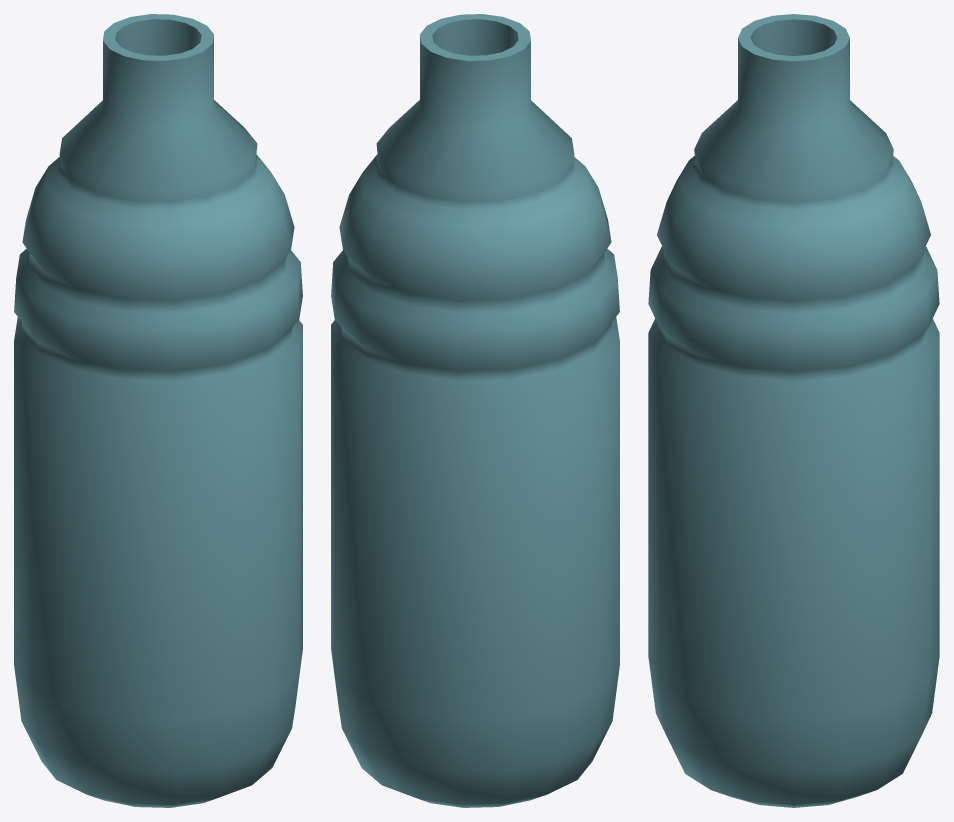
File: Botella.fbx
3 renders of one model, left to right at view 1: azimuth 30°, elevation 25°; view 2: azimuth 150°, elevation 25°; view 3: azimuth 270°, elevation 25°, orthographic.
Visible parts, largest first — view 1: Cylinder; view 2: Cylinder; view 3: Cylinder.
Boxes of the visible parts, <box> form: Cylinder: <box>14,14,302,807</box>; Cylinder: <box>331,14,619,807</box>; Cylinder: <box>648,14,939,807</box>.
Size of the model in its own units: 8.73 by 24.23 by 8.73.
